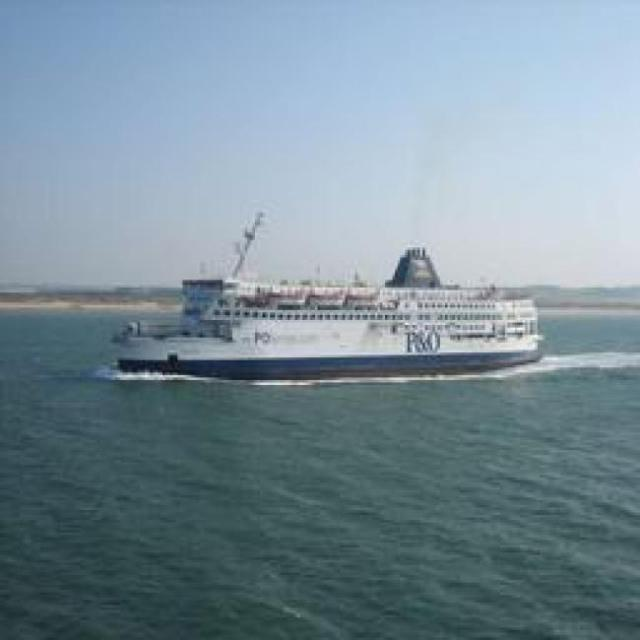boat: (116, 275, 562, 371)
